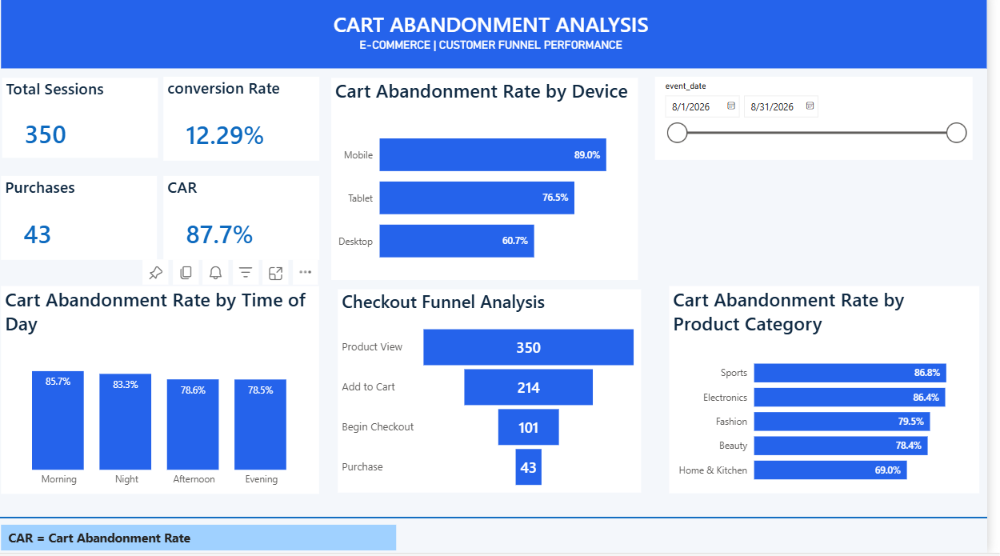

The page's visual inventory and layout, read from the dashboard file:
{"tool":"powerbi","page":{"name":"Home","canvas":[1280,720],"ordinal":1},"visuals":[{"type":"shape","box":[12.2,683.2,507.8,33.4],"z":0},{"type":"shape","box":[13.1,8.7,1266.9,88.7],"z":1000},{"type":"textbox","box":[20.4,17.5,1242.2,69.8],"z":2000},{"type":"cardVisual","title":"conversion Rate ","fields":{"Data":["ecommerce_funnel funnel_events.overall conversion rate %"]},"box":[220.9,108.3,200,108],"z":3000},{"type":"cardVisual","title":"Purchases","fields":{"Data":["ecommerce_funnel funnel_events.purchases"]},"box":[12.2,235.2,200,108],"z":4000},{"type":"cardVisual","title":"Total Sessions","fields":{"Data":["ecommerce_funnel funnel_events.total_sessions"]},"box":[13.3,108.7,200.3,103],"z":5000},{"type":"funnel","title":"Checkout Funnel Analysis","fields":{"Category":["Funnel Steps.Funnel Step"],"Y":["ecommerce_funnel funnel_events.session at step"]},"box":[445,381.7,390,261.4],"z":6000},{"type":"cardVisual","title":"CAR","fields":{"Data":["ecommerce_funnel funnel_events.Cart Abandonment Rate"]},"box":[221.1,235.6,200,108],"z":7000},{"type":"clusteredBarChart","title":"Cart Abandonment Rate by Device","fields":{"Category":["ecommerce_funnel funnel_events.device_type"],"Y":["ecommerce_funnel funnel_events.Device Cart Abandonment Rate"]},"box":[437.1,108.6,394.3,260],"z":8000},{"type":"clusteredBarChart","title":"Cart Abandonment Rate by Product Category","fields":{"Category":["ecommerce_funnel funnel_events.product_category"],"Y":["ecommerce_funnel funnel_events.Device Cart Abandonment Rate"]},"box":[871.7,376.7,398.3,266.7],"z":9000},{"type":"textbox","box":[16.4,683.2,459.1,33.4],"z":10000},{"type":"shape","box":[0,660.9,1280,26.4],"z":11000},{"type":"clusteredColumnChart","title":"Cart Abandonment Rate by Time of Day","fields":{"Category":["ecommerce_funnel funnel_events.Time of Day 02"],"Y":["ecommerce_funnel funnel_events.Device Cart Abandonment Rate"]},"box":[13.1,376.7,409,267],"z":12000},{"type":"slicer","fields":{"Values":["ecommerce_funnel funnel_events.event_date"]},"box":[853.3,108.3,408.3,106.7],"z":12001}]}

Visuals, with their boxes in screenshot pixels (x1, y1, x2, y2), scaled from the page's 1280x720 canvas onto the 1000x556 screenshot:
shape: rect(10, 528, 406, 553)
shape: rect(10, 7, 999, 75)
textbox: rect(16, 14, 986, 67)
"conversion Rate " cardVisual: rect(173, 84, 329, 167)
"Purchases" cardVisual: rect(10, 182, 166, 265)
"Total Sessions" cardVisual: rect(10, 84, 167, 163)
"Checkout Funnel Analysis" funnel: rect(348, 295, 652, 497)
"CAR" cardVisual: rect(173, 182, 329, 265)
"Cart Abandonment Rate by Device" clusteredBarChart: rect(341, 84, 650, 285)
"Cart Abandonment Rate by Product Category" clusteredBarChart: rect(681, 291, 992, 497)
textbox: rect(13, 528, 371, 553)
shape: rect(0, 510, 999, 531)
"Cart Abandonment Rate by Time of Day" clusteredColumnChart: rect(10, 291, 330, 497)
slicer - ecommerce_funnel funnel_events.event_date: rect(667, 84, 986, 166)
